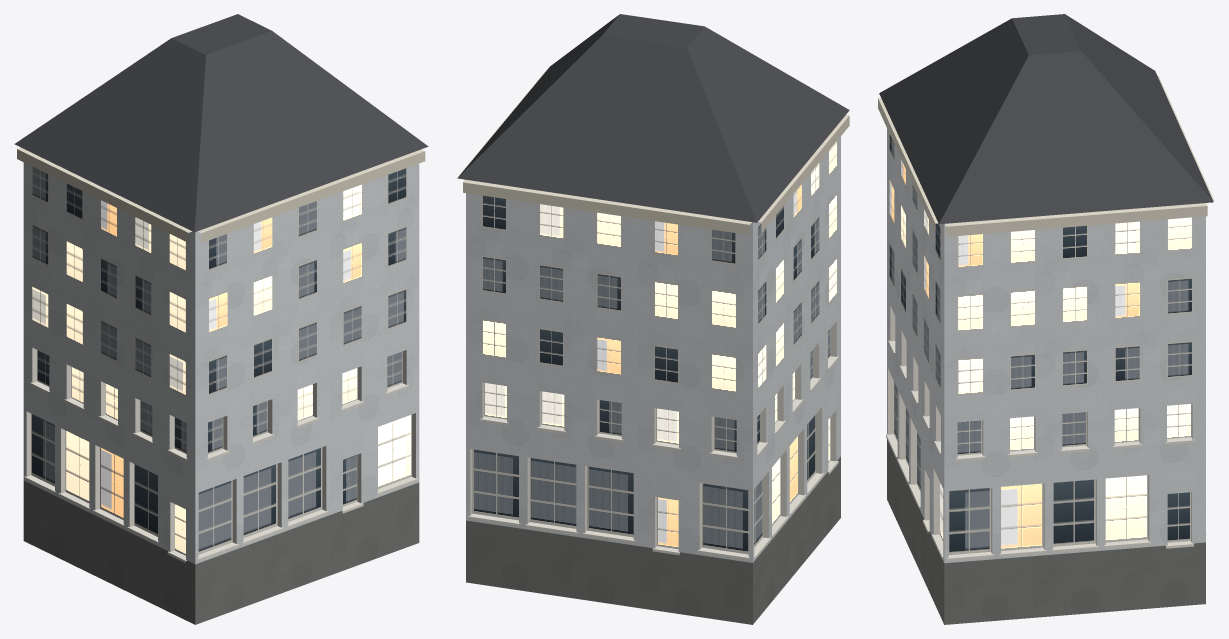
File: z4_birm299.glb
3 views of the same model, side by side, from view 1: azimuth 30°, elevation 25°; view 2: azimuth 150°, elevation 25°; view 3: azimuth 270°, elevation 25° (orthographic). The views are drawn at different scales.
Visible parts, largest first — view 1: z4_birm299; view 2: z4_birm299; view 3: z4_birm299.
Part boxes in pixels (x1,y1,x2,y2): z4_birm299: [14, 14, 428, 624]; z4_birm299: [457, 14, 849, 624]; z4_birm299: [878, 14, 1214, 624].
Size of the model in its own units: 16.08 by 25.16 by 14.85.
3 materials, 3 textured.
